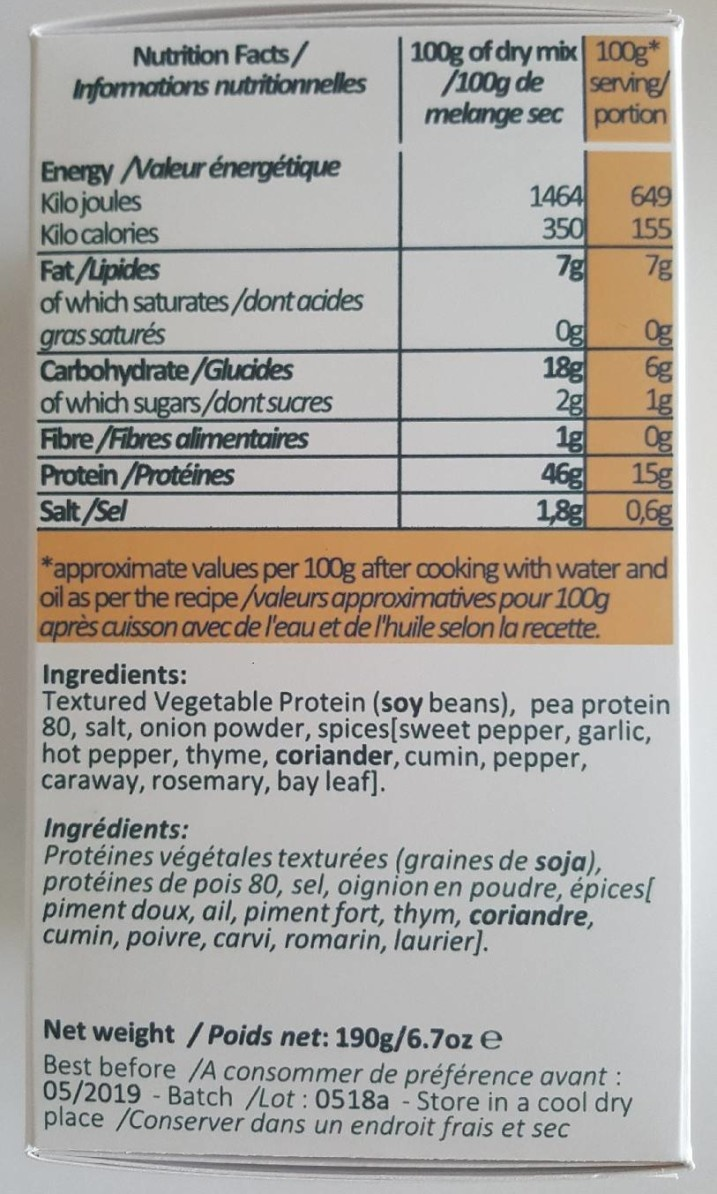column: (42, 40, 370, 518), (411, 40, 577, 523), (593, 38, 673, 523)
table: (33, 32, 679, 536)
